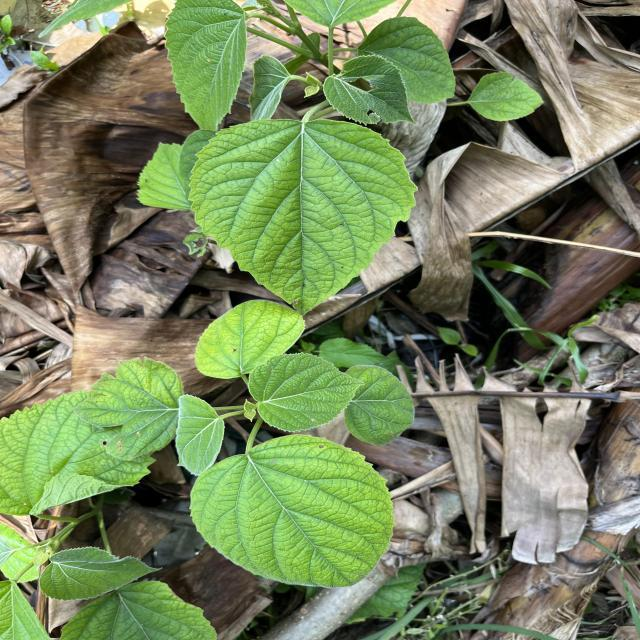Clerodendrum infortunatum: (188, 118, 422, 318), (188, 434, 398, 590), (162, 0, 249, 134), (248, 352, 366, 435), (193, 298, 307, 380), (344, 363, 416, 448), (174, 394, 227, 476)
